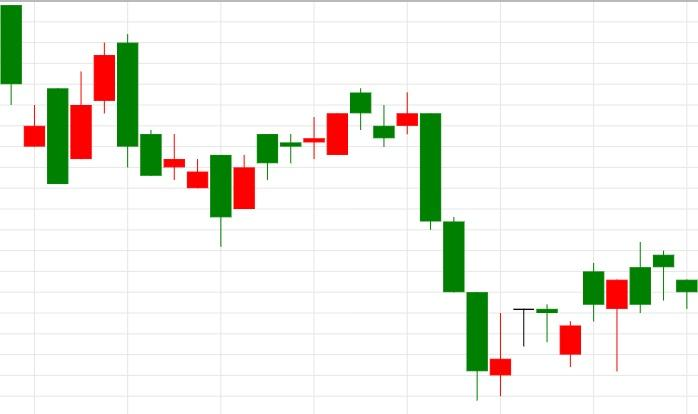bearish_engulfing_fall: (47, 35, 139, 184)
hanging_man_fall: (559, 263, 628, 372)
three_black_crows_fall: (373, 91, 489, 400)
